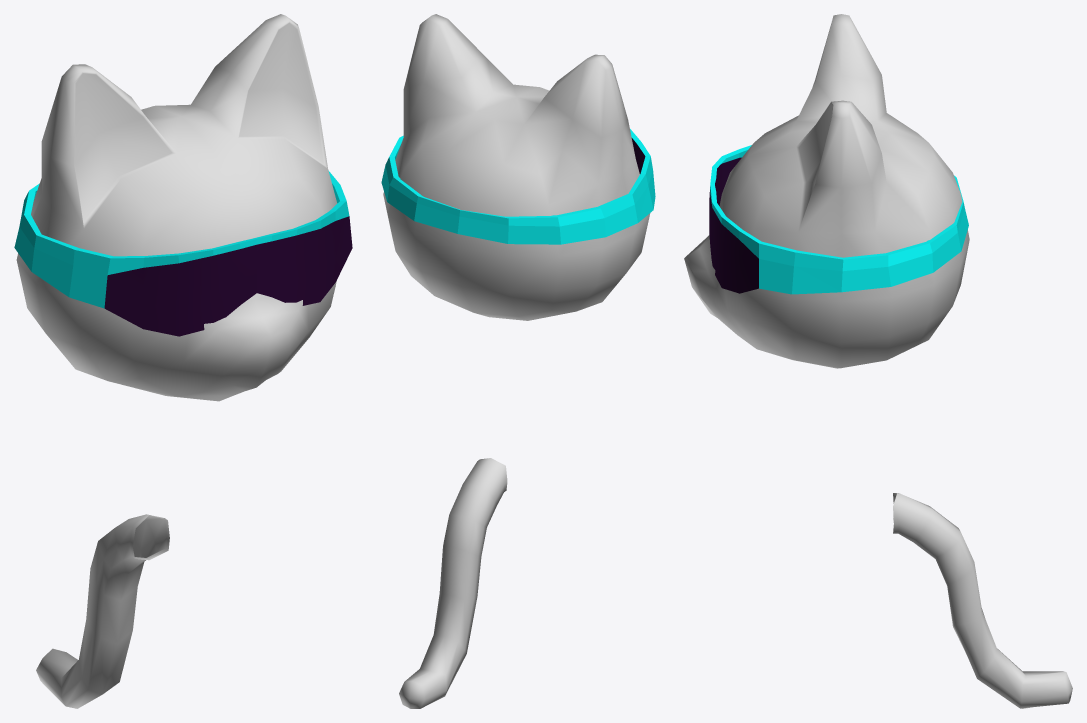
File: Parts_Cat_UVFin_GAME.fbx
3 views of the same model, side by side, from view 1: azimuth 30°, elevation 25°; view 2: azimuth 150°, elevation 25°; view 3: azimuth 270°, elevation 25° (orthographic). The views are drawn at different scales.
Parts seen in each view (by area): view 1: Cat_head; view 2: Cat_head; view 3: Cat_head.
Boxes of the visible parts, x1,y1,x2,y2 form: Cat_head: (14,14,352,708); Cat_head: (381,14,655,708); Cat_head: (684,14,1072,708).
Bounding box in the file's own units: 50.88 × 121 × 65.44.
